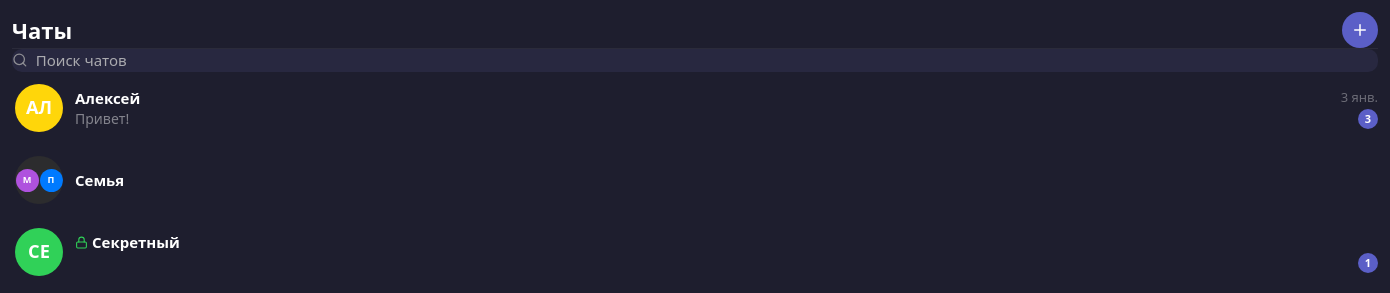
it: ChatList › открывает dropdown по кнопке [+]
The image size is (1390, 293).
Click the button named "Создать": (1360, 30) 1342,12 -> 1378,48
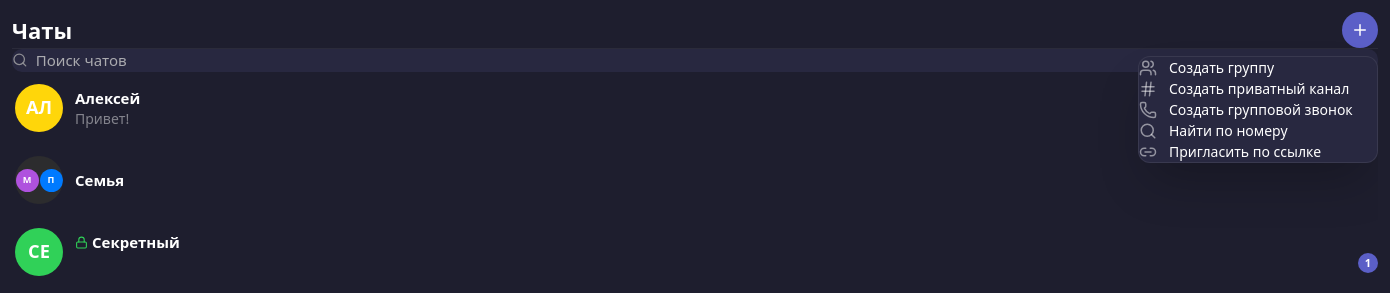
Expected: the text "Создать группу" is shown, 1169,57 -> 1274,78
